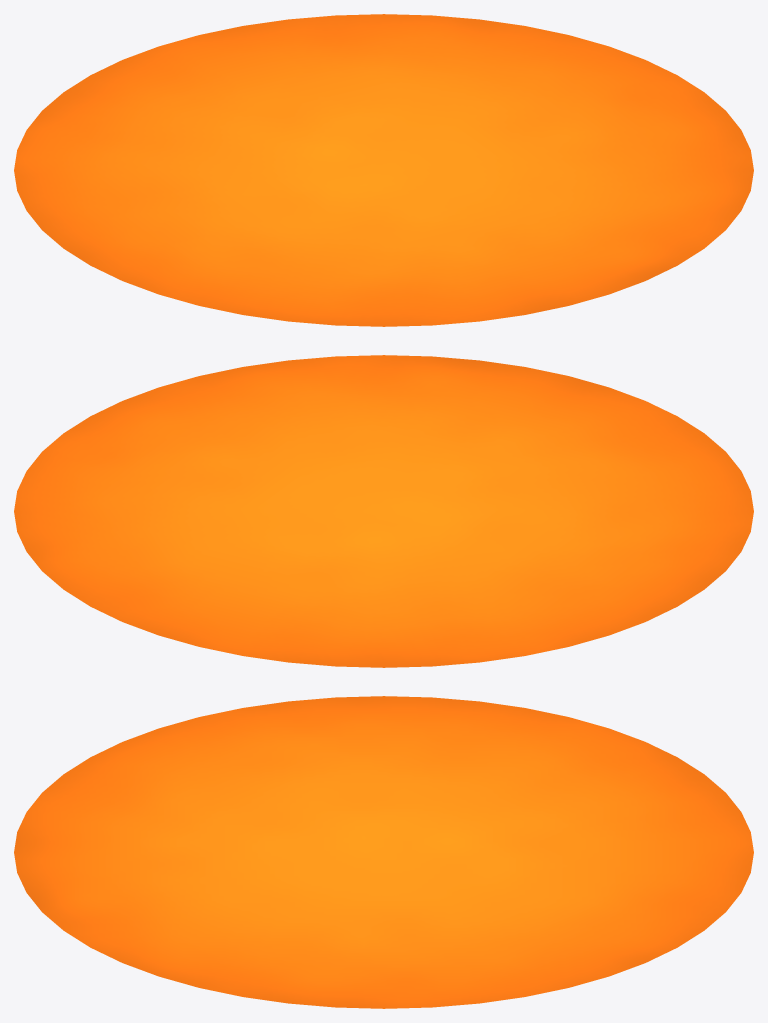
The model's file is mm6_deco_barrel_liquid_orange.glb.
3 views of the same model, one above another, from view 1: azimuth 30°, elevation 25°; view 2: azimuth 150°, elevation 25°; view 3: azimuth 270°, elevation 25° (orthographic).
Parts seen in each view (by area): view 1: Liquid; view 2: Liquid; view 3: Liquid.
Boxes of the visible parts, <box> form: Liquid: <box>14,14,753,326</box>; Liquid: <box>14,355,753,667</box>; Liquid: <box>14,696,753,1008</box>.
Size of the model in its own units: 0.529 by 0 by 0.529.
1 material, 1 textured.
